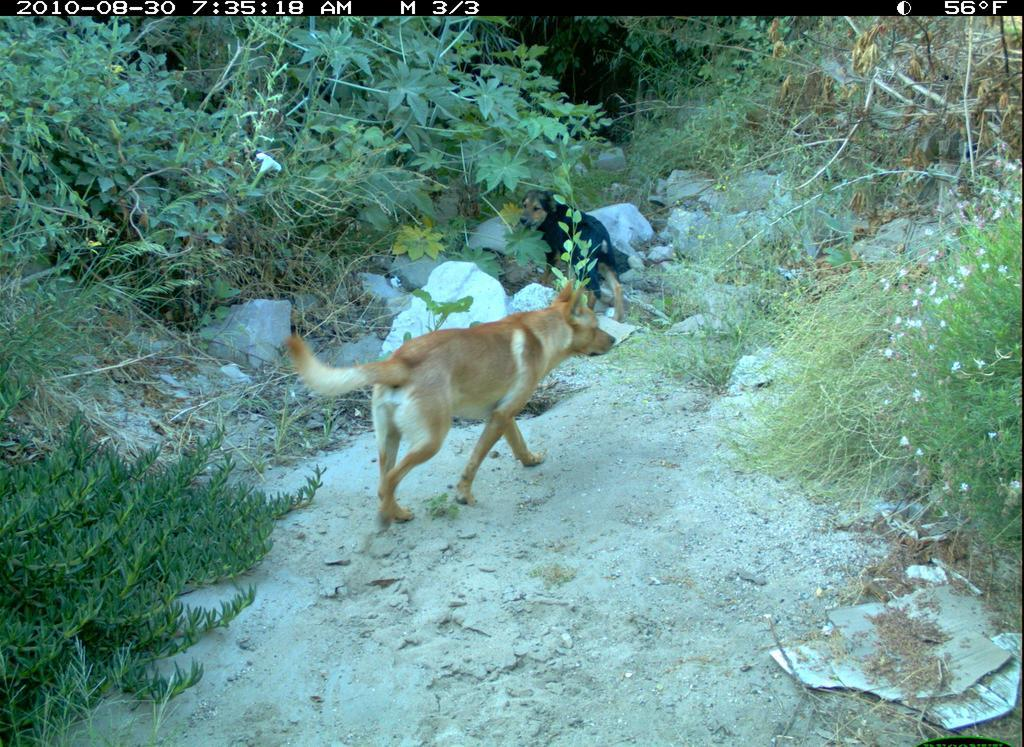dog: (282, 274, 634, 530), (519, 178, 634, 323)
